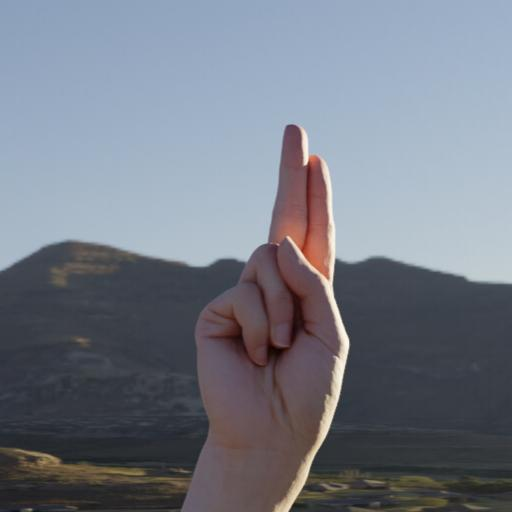U: (166, 118, 360, 512)
